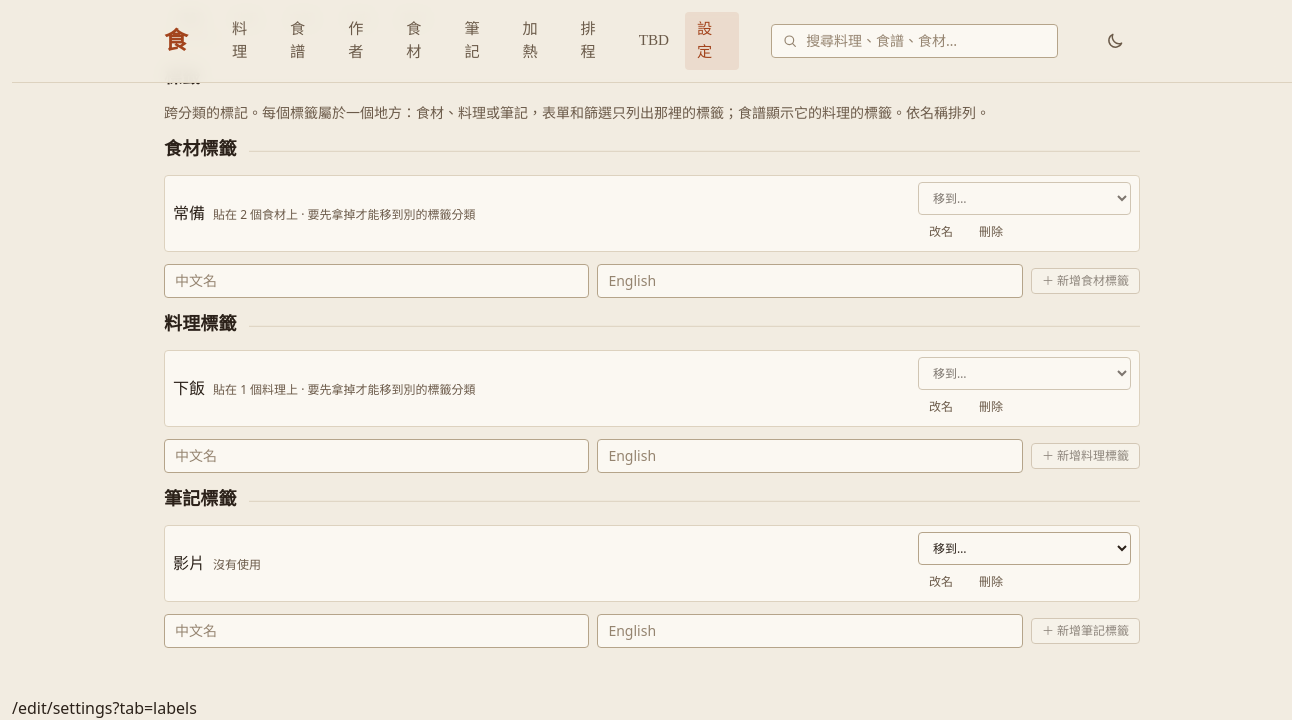
設定 › says a refused move in the row
(page scrolled)
Select "食材標籤" in the dropdown named "把「影片」移到" at (1024, 548), box [918,532,1131,565]
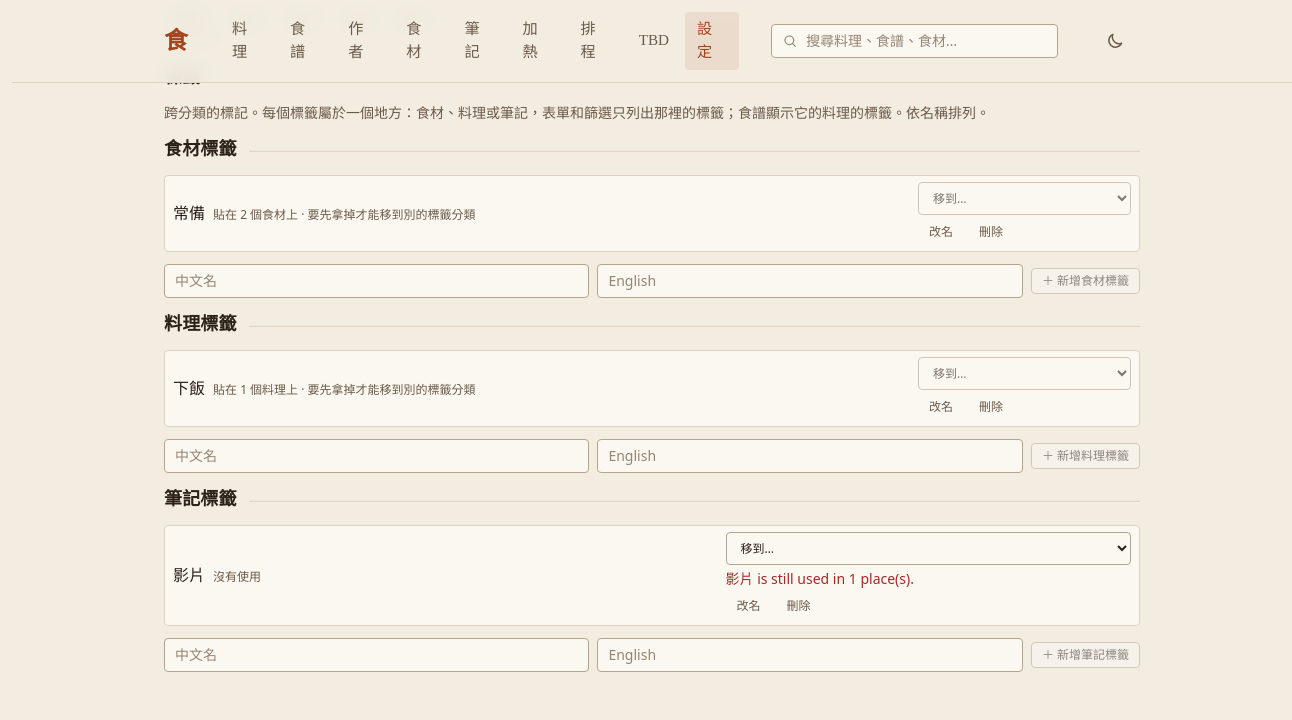
Now the message shows "still used", box [726,569,914,588]
